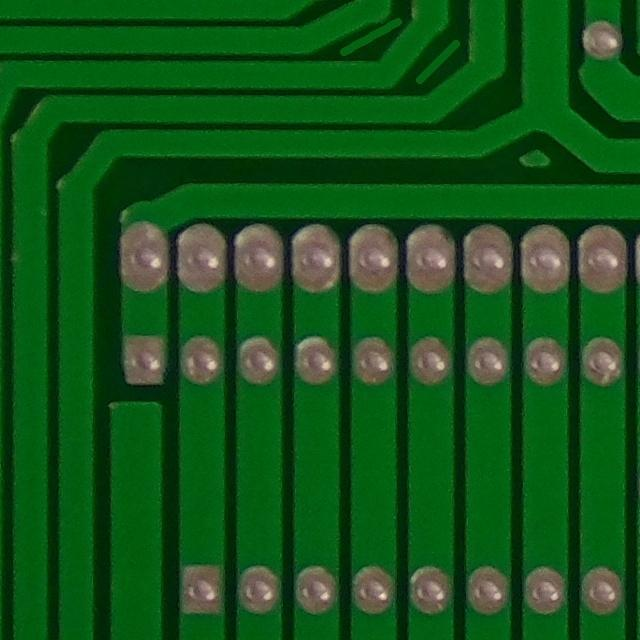spurious_copper: (330, 6, 406, 63), (404, 34, 475, 90)
